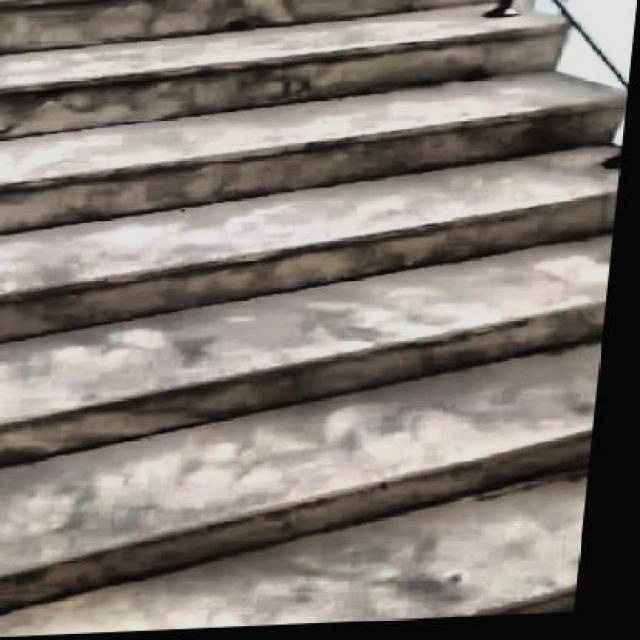stair: (0, 0, 640, 638)
